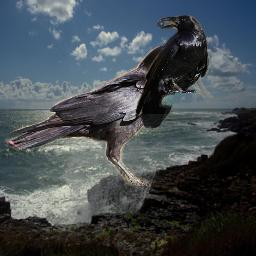Crow: (4, 40, 221, 186), (135, 15, 209, 130)
